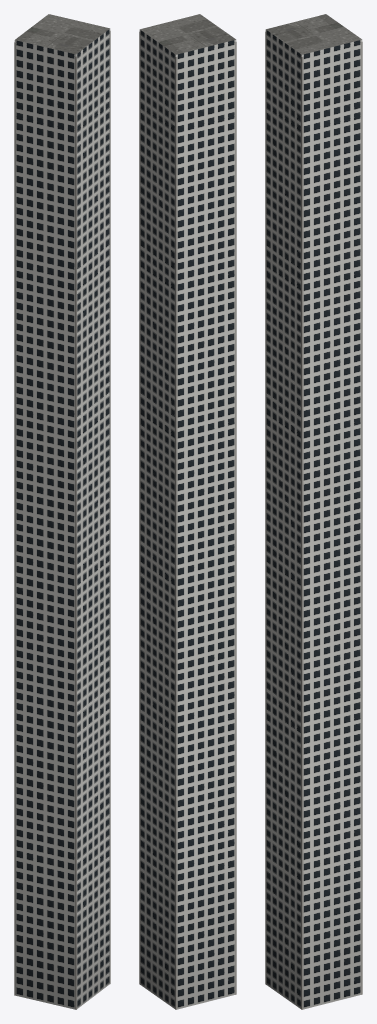
The picture shows the model from 3 angles, left to right: view 1: azimuth 90°, elevation 25°; view 2: azimuth 150°, elevation 25°; view 3: azimuth 330°, elevation 25°; orthographic projection.
Visible parts, largest first — view 1: p432; view 2: p432; view 3: p432.
Boxes of the visible parts, <box> form: p432: <box>14,14,110,1009</box>; p432: <box>139,14,236,1009</box>; p432: <box>265,14,362,1009</box>.
Size of the model in its own units: 38.88 by 426 by 38.88.
25 materials, 20 textured.
